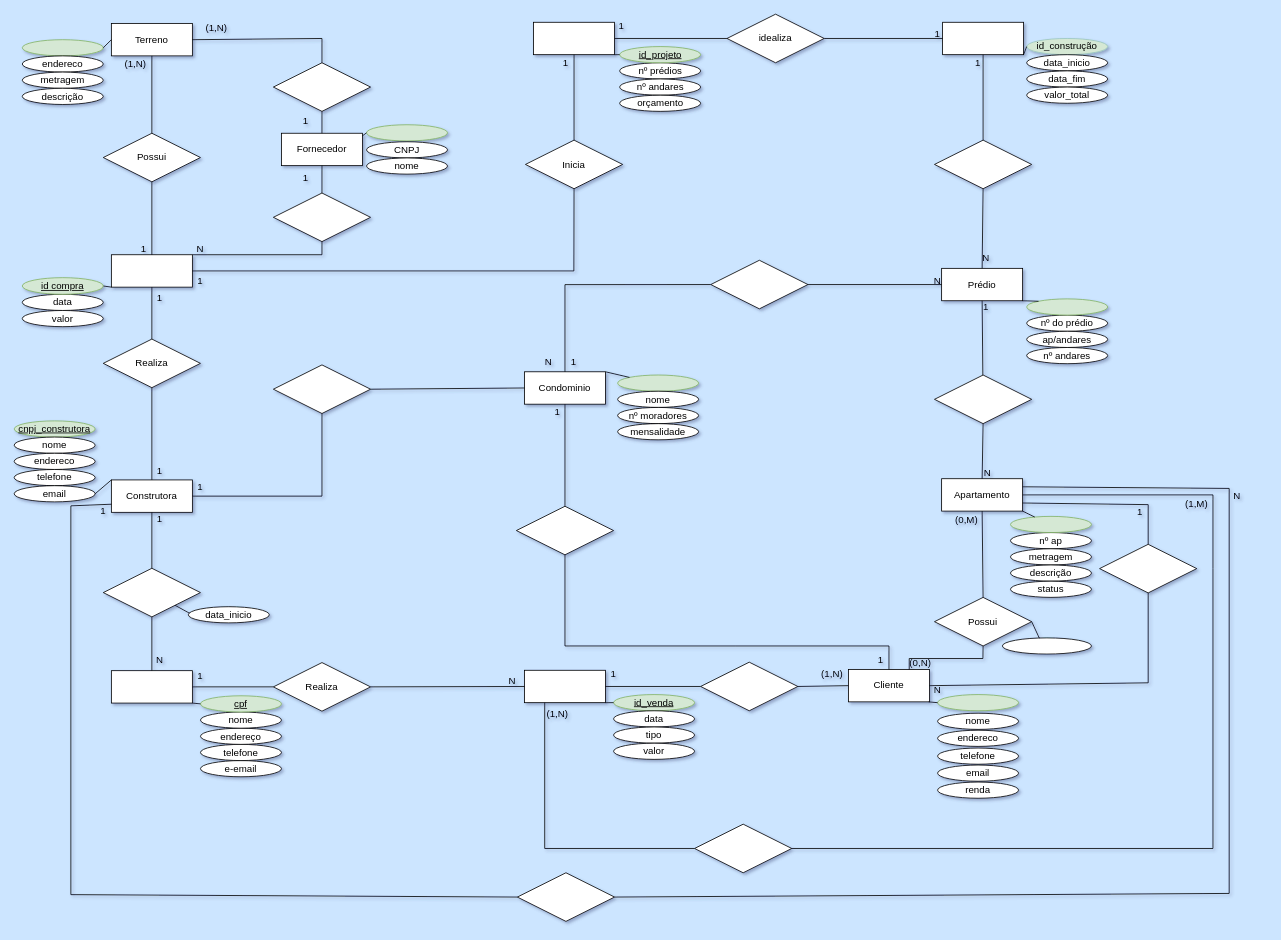
Image size: 1281x940. Some labels were removed from this diagram. Each missing label, with the centre of its shape:
"Administra" goes at [322,389].
"Compra" goes at [151,270].
"Constroi" goes at [983,164].
"Construção" goes at [983,38].
"Contem" goes at [743,848].
"Contém" goes at [983,399].
"Corretor" goes at [151,686].
"cpf_cliente" goes at [978,702].
"Forma" goes at [759,284].
"Fornece" goes at [322,86].
"Gerencia" goes at [565,530].
"id_apartamento" goes at [1050,524].
"id_condominio" goes at [658,382].
"id_fornecedor" goes at [407,132].
"id_prédio" goes at [1067,306].
"id_terreno" goes at [62,47].
"Oferta" goes at [566,896].
"Ofertado" goes at [1148,568].
"participa" goes at [322,217].
"porcentagem _cota" goes at [1046,645].
"Projeto" goes at [574,38].
"Solicita" goes at [749,686].
"Trabalha" goes at [151,592].
"Venda" goes at [564,686].
